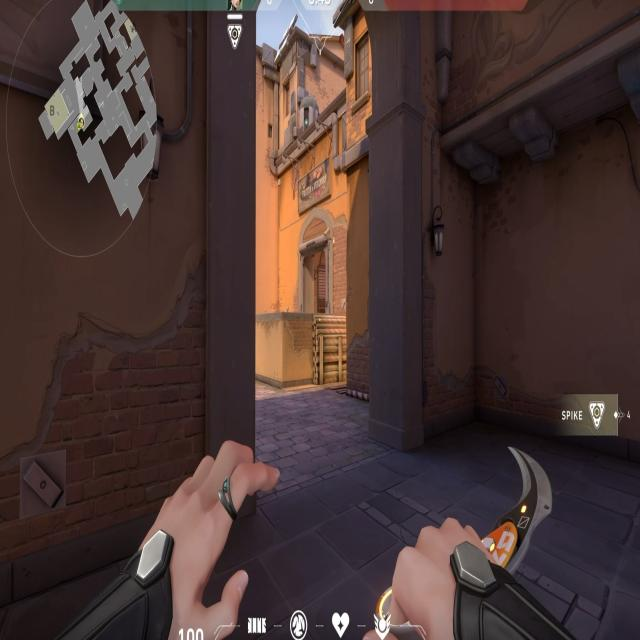B_Cubby: (282, 310, 350, 391)
